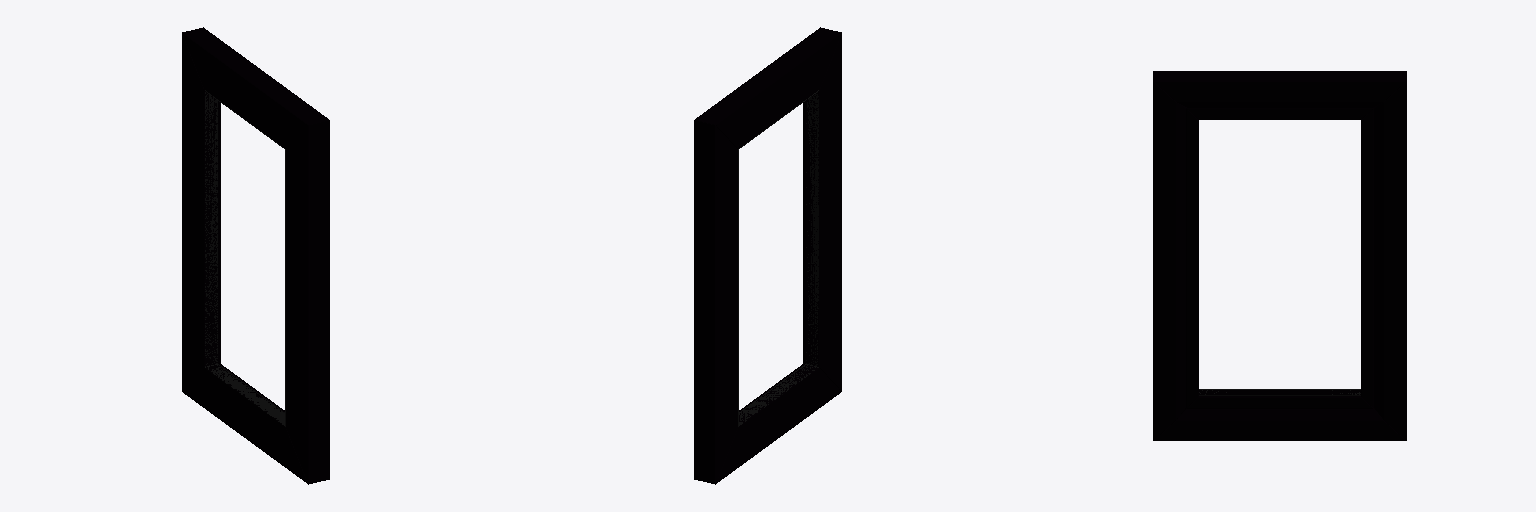
File: mirrorFrame.obj
3 renders of one model, left to right at view 1: azimuth 30°, elevation 25°; view 2: azimuth 150°, elevation 25°; view 3: azimuth 270°, elevation 25°, orthographic.
Parts seen in each view (by area): view 1: mirror_fin; view 2: mirror_fin; view 3: mirror_fin.
Boxes of the visible parts, box(x1,y1,x2,y2) form: mirror_fin: box(182, 27, 329, 484); mirror_fin: box(694, 27, 841, 484); mirror_fin: box(1153, 71, 1406, 440).
Bounding box in the file's own units: 1.08 × 16.87 × 10.77.